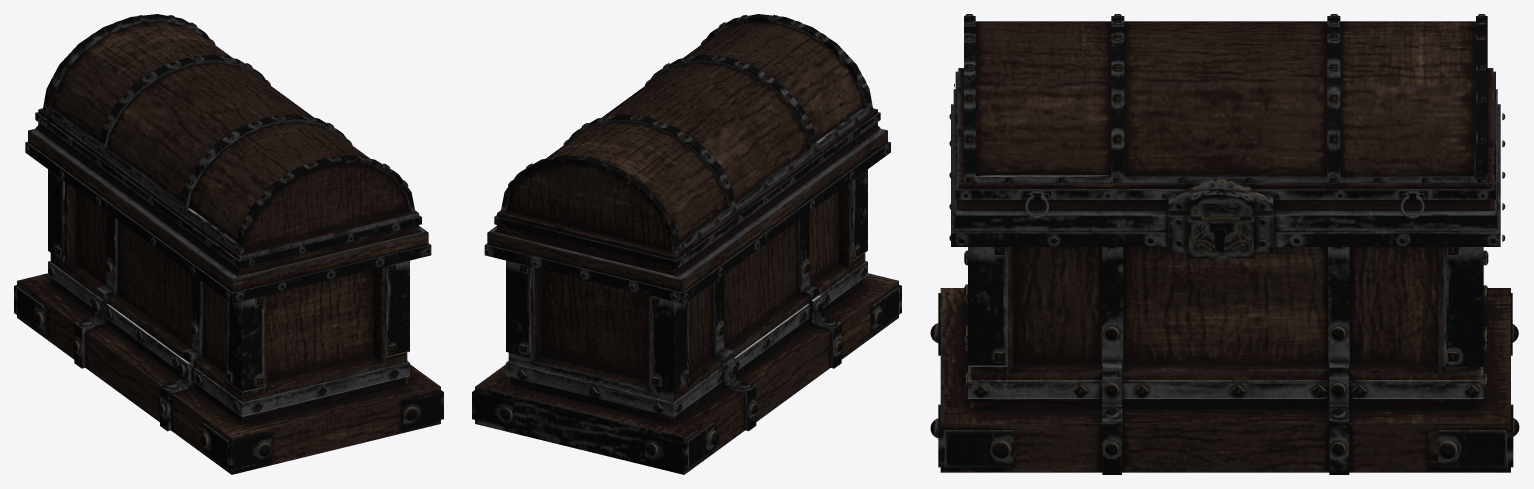
The model's file is low polly final fbx test03.fbx.
The picture shows the model from 3 angles, left to right: view 1: azimuth 30°, elevation 25°; view 2: azimuth 150°, elevation 25°; view 3: azimuth 270°, elevation 25°; orthographic projection. The views are drawn at different scales.
Parts seen in each view (by area): view 1: Low_pollygon_box1; view 2: Low_pollygon_box1; view 3: Low_pollygon_box1.
Boxes of the visible parts, x1,y1,x2,y2 form: Low_pollygon_box1: (14, 14, 443, 474); Low_pollygon_box1: (472, 14, 901, 474); Low_pollygon_box1: (930, 14, 1519, 474).
Bounding box in the file's own units: 6.34 × 7.62 × 10.85.
